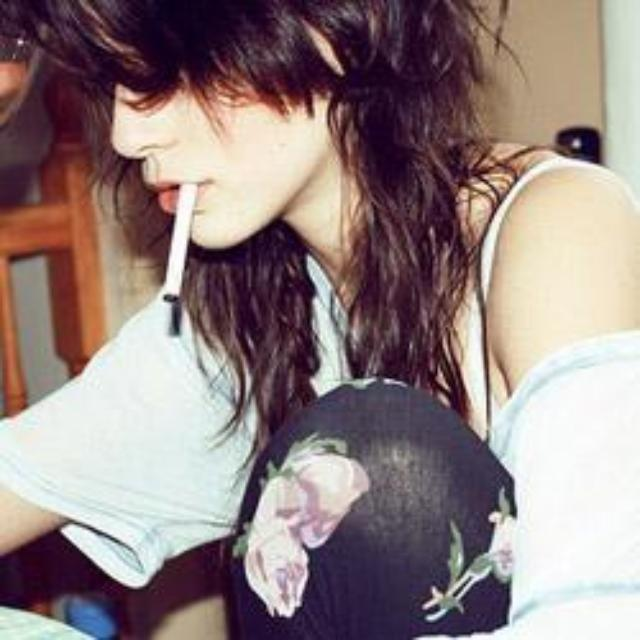Cigarette: (160, 188, 198, 304)
